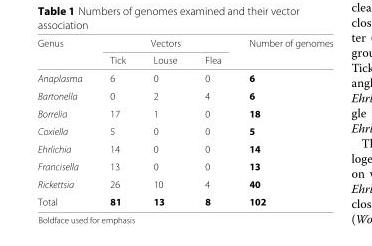table: (36, 37, 332, 207)
table column: (234, 37, 332, 207), (36, 37, 95, 207), (138, 37, 190, 207), (190, 37, 234, 207), (95, 37, 138, 207)
table column header: (36, 37, 332, 68)
table row: (36, 68, 332, 86), (36, 86, 332, 104), (36, 121, 332, 139), (36, 139, 332, 157), (36, 174, 332, 192), (36, 51, 332, 68), (36, 104, 332, 121), (36, 157, 332, 174), (36, 192, 332, 207), (36, 37, 332, 51)
table spanning cell: (234, 37, 332, 68), (95, 37, 234, 51), (36, 37, 95, 68)
